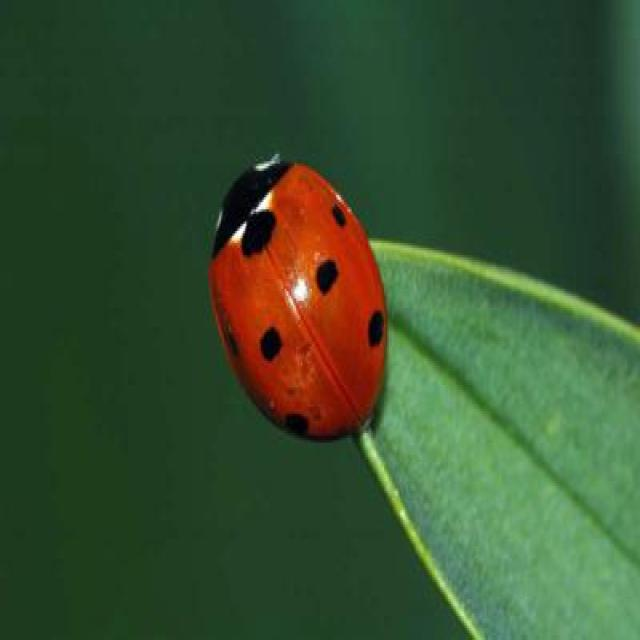body: (211, 156, 382, 440)
insect: (210, 156, 388, 444)
wings: (215, 168, 384, 440)
